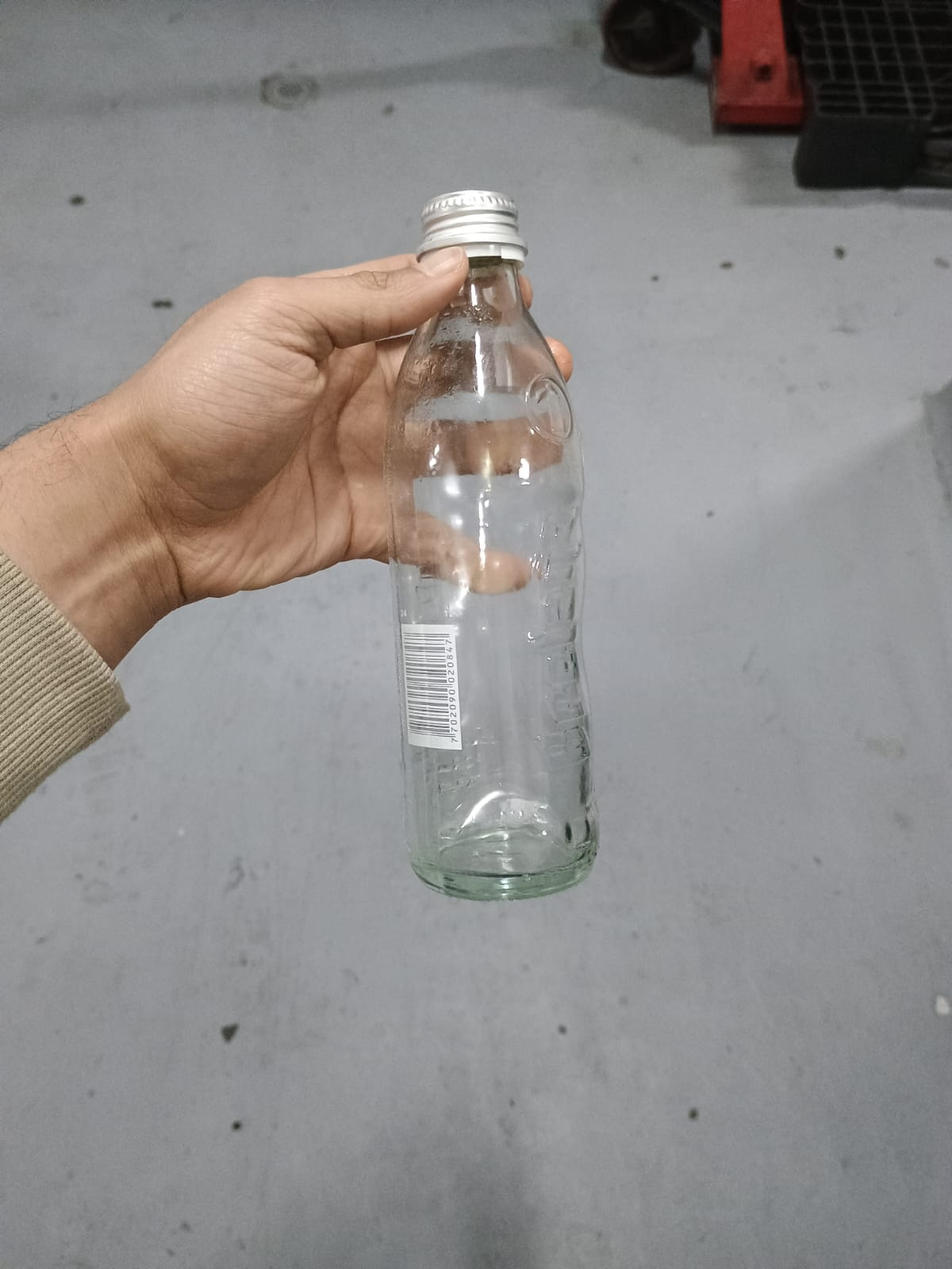Metal: (416, 193, 529, 251)
Vidrio: (384, 258, 602, 899)
